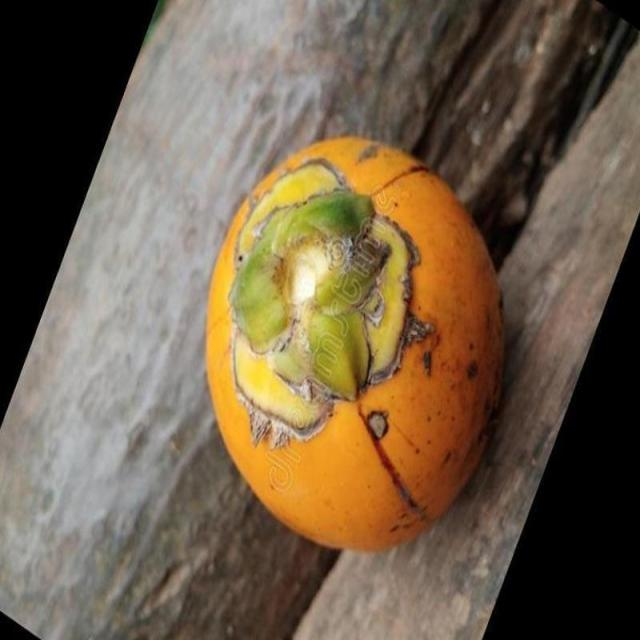good: (206, 138, 507, 556)
